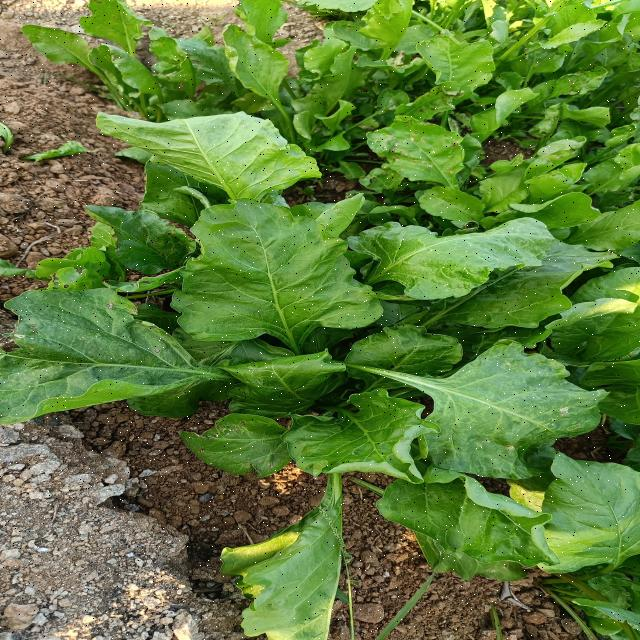leaves: (1, 275, 248, 466), (89, 97, 328, 289), (200, 436, 413, 640), (319, 348, 607, 486), (171, 200, 385, 384), (366, 432, 549, 593), (344, 230, 587, 337), (489, 433, 632, 603), (268, 384, 454, 503), (159, 403, 288, 495)
